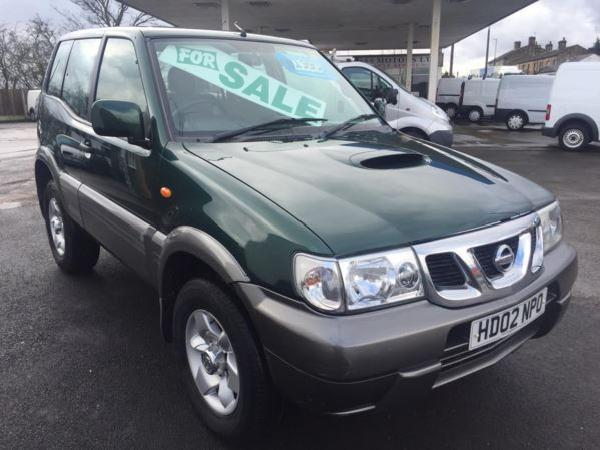License-Plate: (460, 287, 557, 356)
